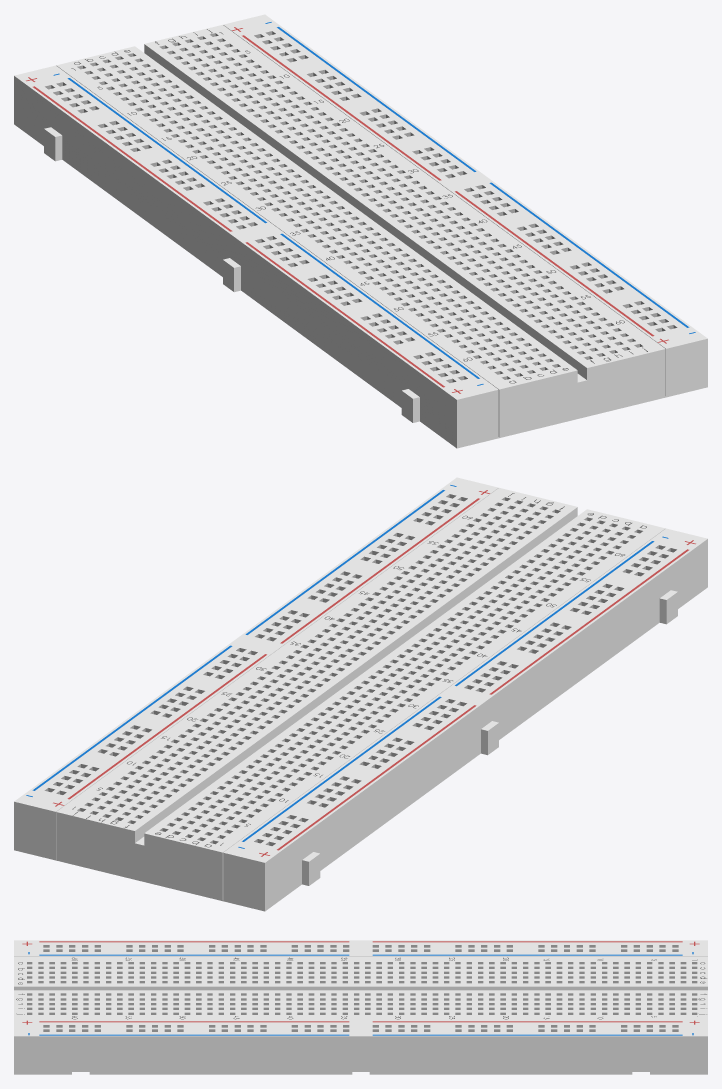
Rendered from ProtoBoard.fbx.
3 views of the same model, one above another, from view 1: azimuth 30°, elevation 25°; view 2: azimuth 150°, elevation 25°; view 3: azimuth 270°, elevation 25° (orthographic). The views are drawn at different scales.
Visible parts, largest first — view 1: (Unsaved); view 2: (Unsaved); view 3: (Unsaved).
Boxes of the visible parts, x1=… form: (Unsaved): x1=14, y1=14, x2=707, y2=448; (Unsaved): x1=14, y1=477, x2=707, y2=911; (Unsaved): x1=14, y1=940, x2=707, y2=1074.
Bounding box in the file's own units: 5.55 × 1 × 16.5.
